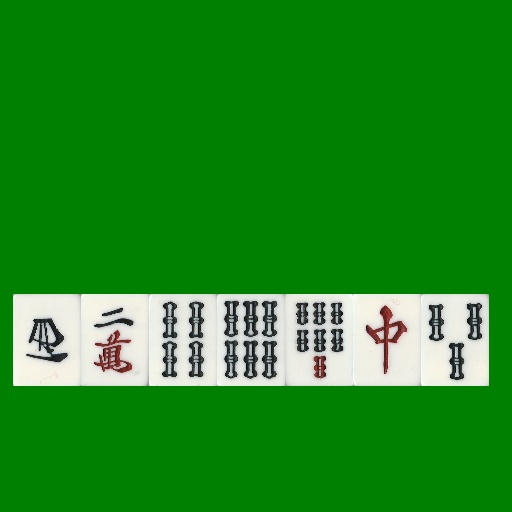2m: (81, 294, 149, 386)
3s: (421, 294, 489, 386)
4s: (149, 294, 217, 386)
6s: (217, 294, 285, 386)
7s: (285, 294, 353, 386)
tyun: (353, 294, 421, 386)
west: (13, 294, 81, 386)
